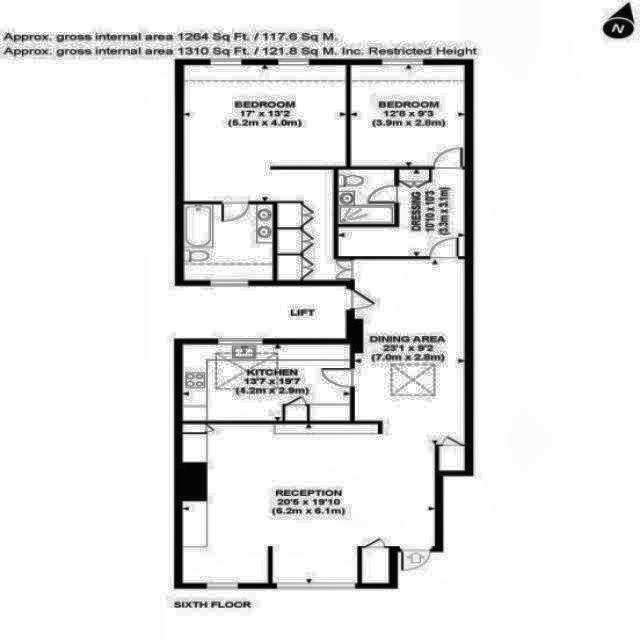room: (183, 260, 465, 583), (184, 65, 350, 281), (184, 344, 350, 421), (350, 66, 464, 166), (338, 170, 465, 256), (184, 204, 273, 280), (338, 171, 394, 224)
